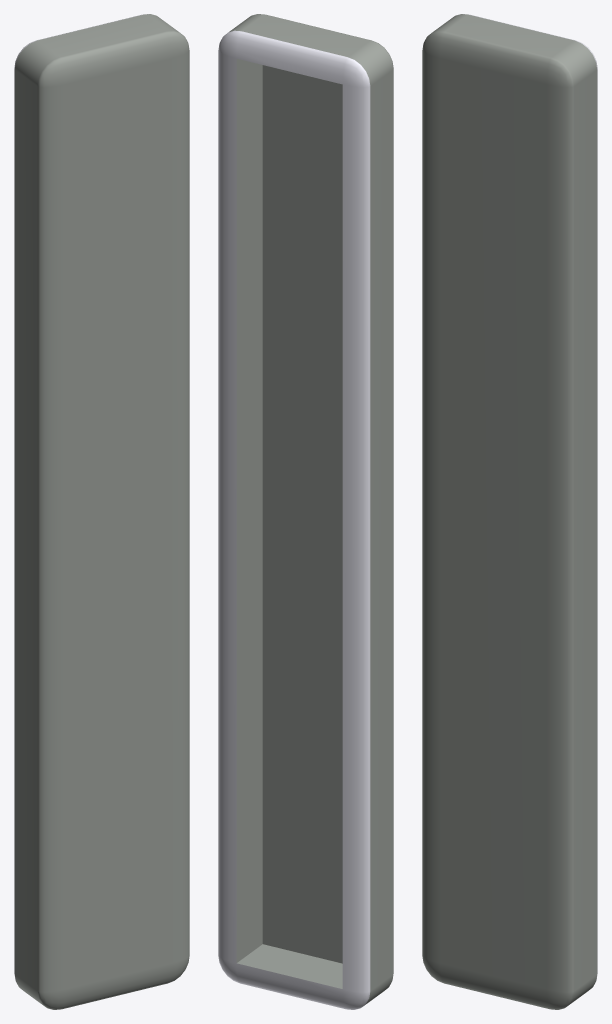
Rendered from Bar_1.fbx.
The picture shows the model from 3 angles, left to right: view 1: azimuth 30°, elevation 25°; view 2: azimuth 150°, elevation 25°; view 3: azimuth 330°, elevation 25°; orthographic projection.
Visible parts, largest first — view 1: pCube1; view 2: pCube1; view 3: pCube1.
Part boxes in pixels (left/top/right/bottom): pCube1: left=14, top=14, right=189, bottom=1009; pCube1: left=218, top=14, right=393, bottom=1009; pCube1: left=422, top=14, right=597, bottom=1009.
Bounding box in the file's own units: 100 × 600 × 37.23.
Materials: 1 (1 with a texture image).
